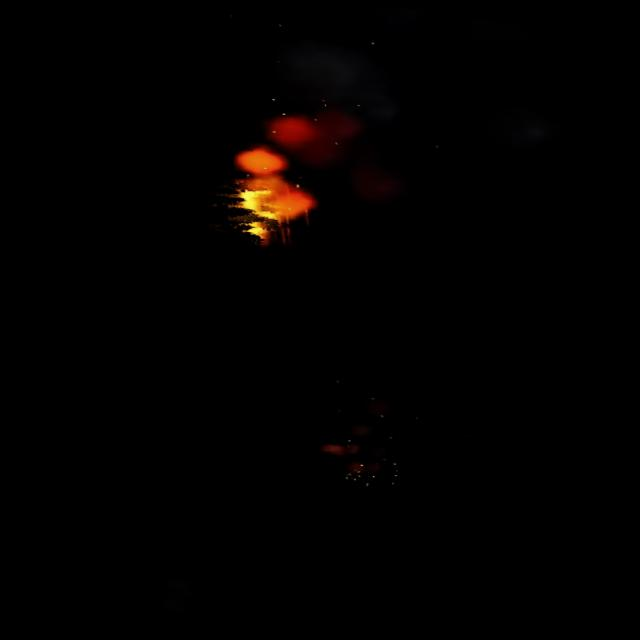fire: (215, 142, 322, 252), (343, 459, 380, 486)
smoke: (246, 30, 418, 209), (314, 390, 395, 473), (495, 111, 551, 152)
